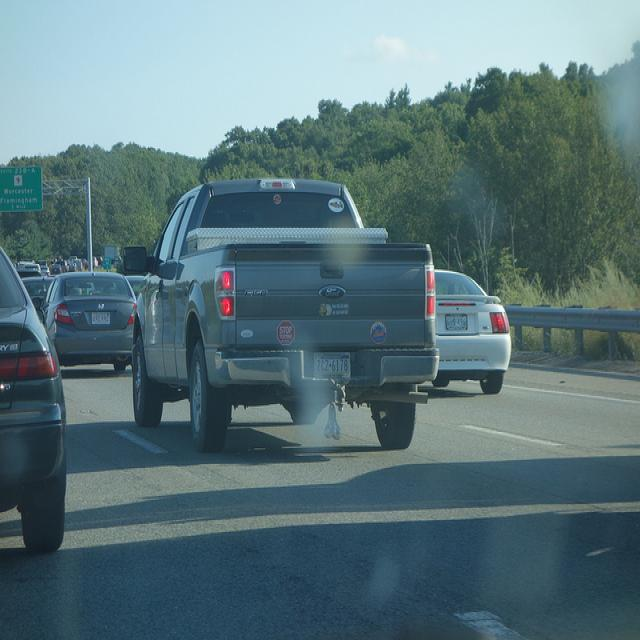Vehicle: (117, 181, 438, 456), (1, 240, 68, 552), (39, 272, 136, 378), (432, 269, 511, 393), (17, 269, 55, 308), (104, 244, 120, 264), (56, 261, 70, 271), (46, 270, 60, 278), (50, 264, 61, 274), (77, 262, 84, 271), (93, 258, 98, 268)
